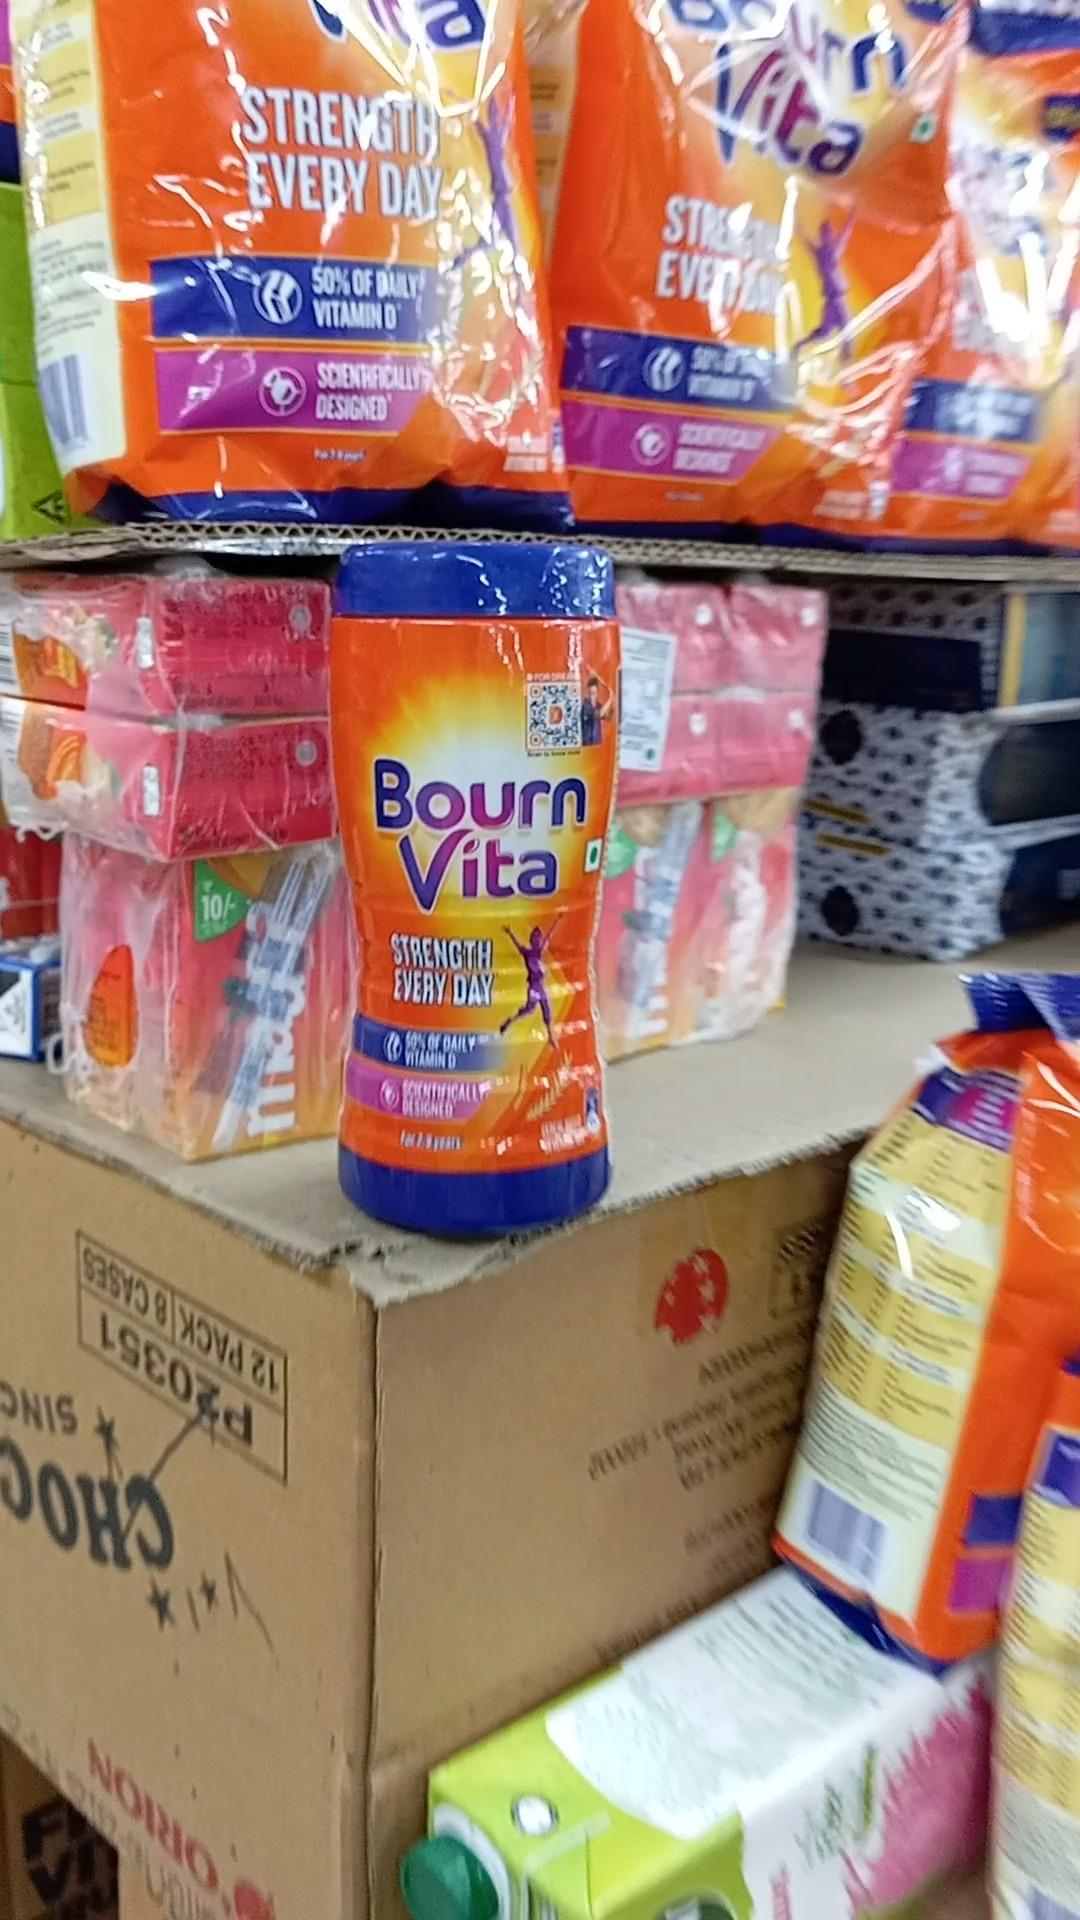BOURN_VITA_200_G_JAR: (335, 535, 618, 1233)
